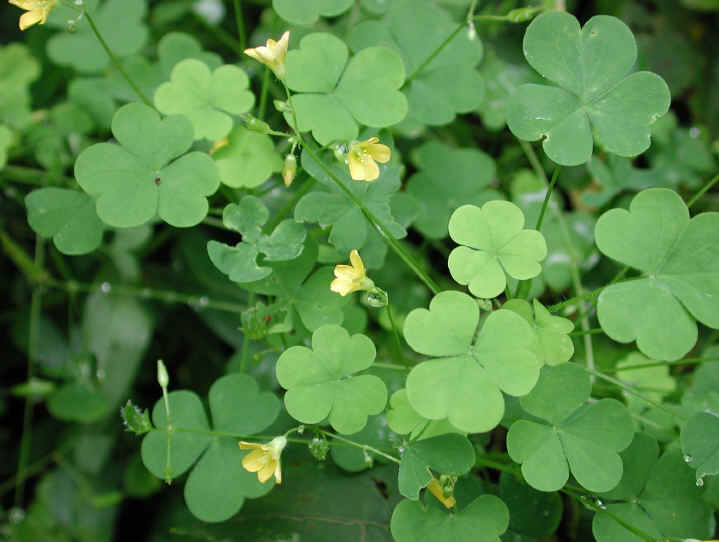oxalis: (85, 50, 718, 460)
